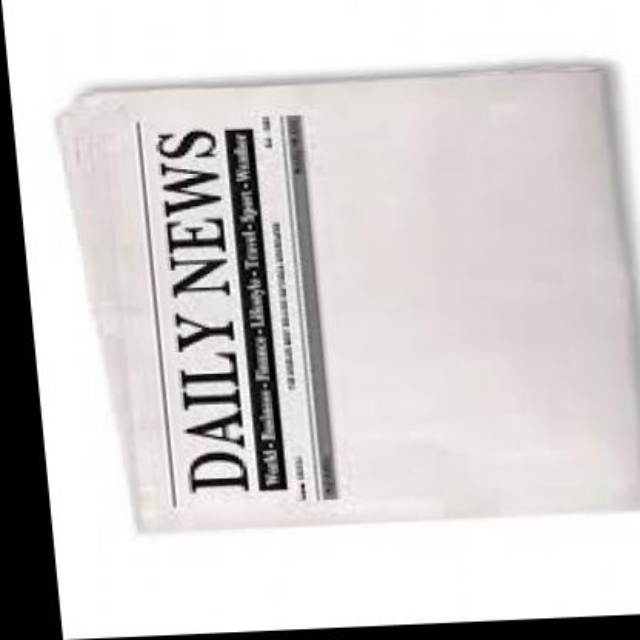trash: (58, 65, 638, 528)
